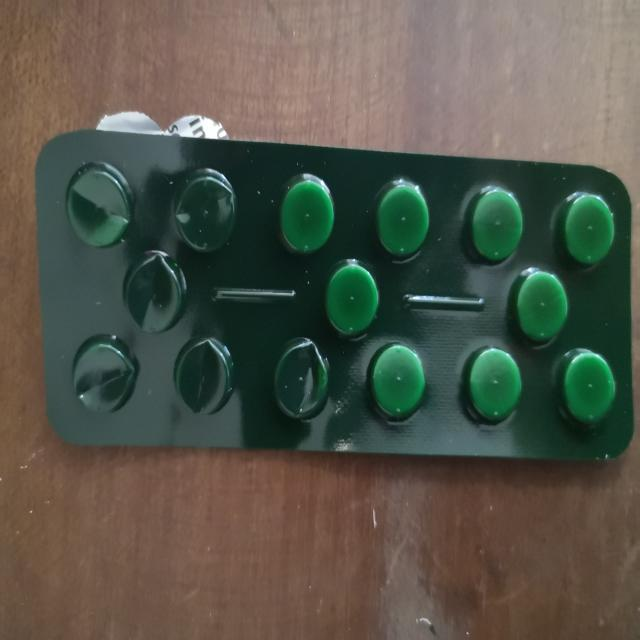Empty: (60, 157, 132, 249), (262, 330, 328, 430), (64, 333, 138, 418), (124, 252, 189, 333), (173, 332, 232, 418), (179, 172, 233, 252)
Pill: (550, 182, 621, 264), (364, 343, 433, 424), (274, 168, 337, 256), (462, 182, 526, 266), (460, 342, 522, 428), (504, 268, 575, 342), (557, 345, 617, 429), (368, 176, 430, 256), (320, 260, 381, 338)
